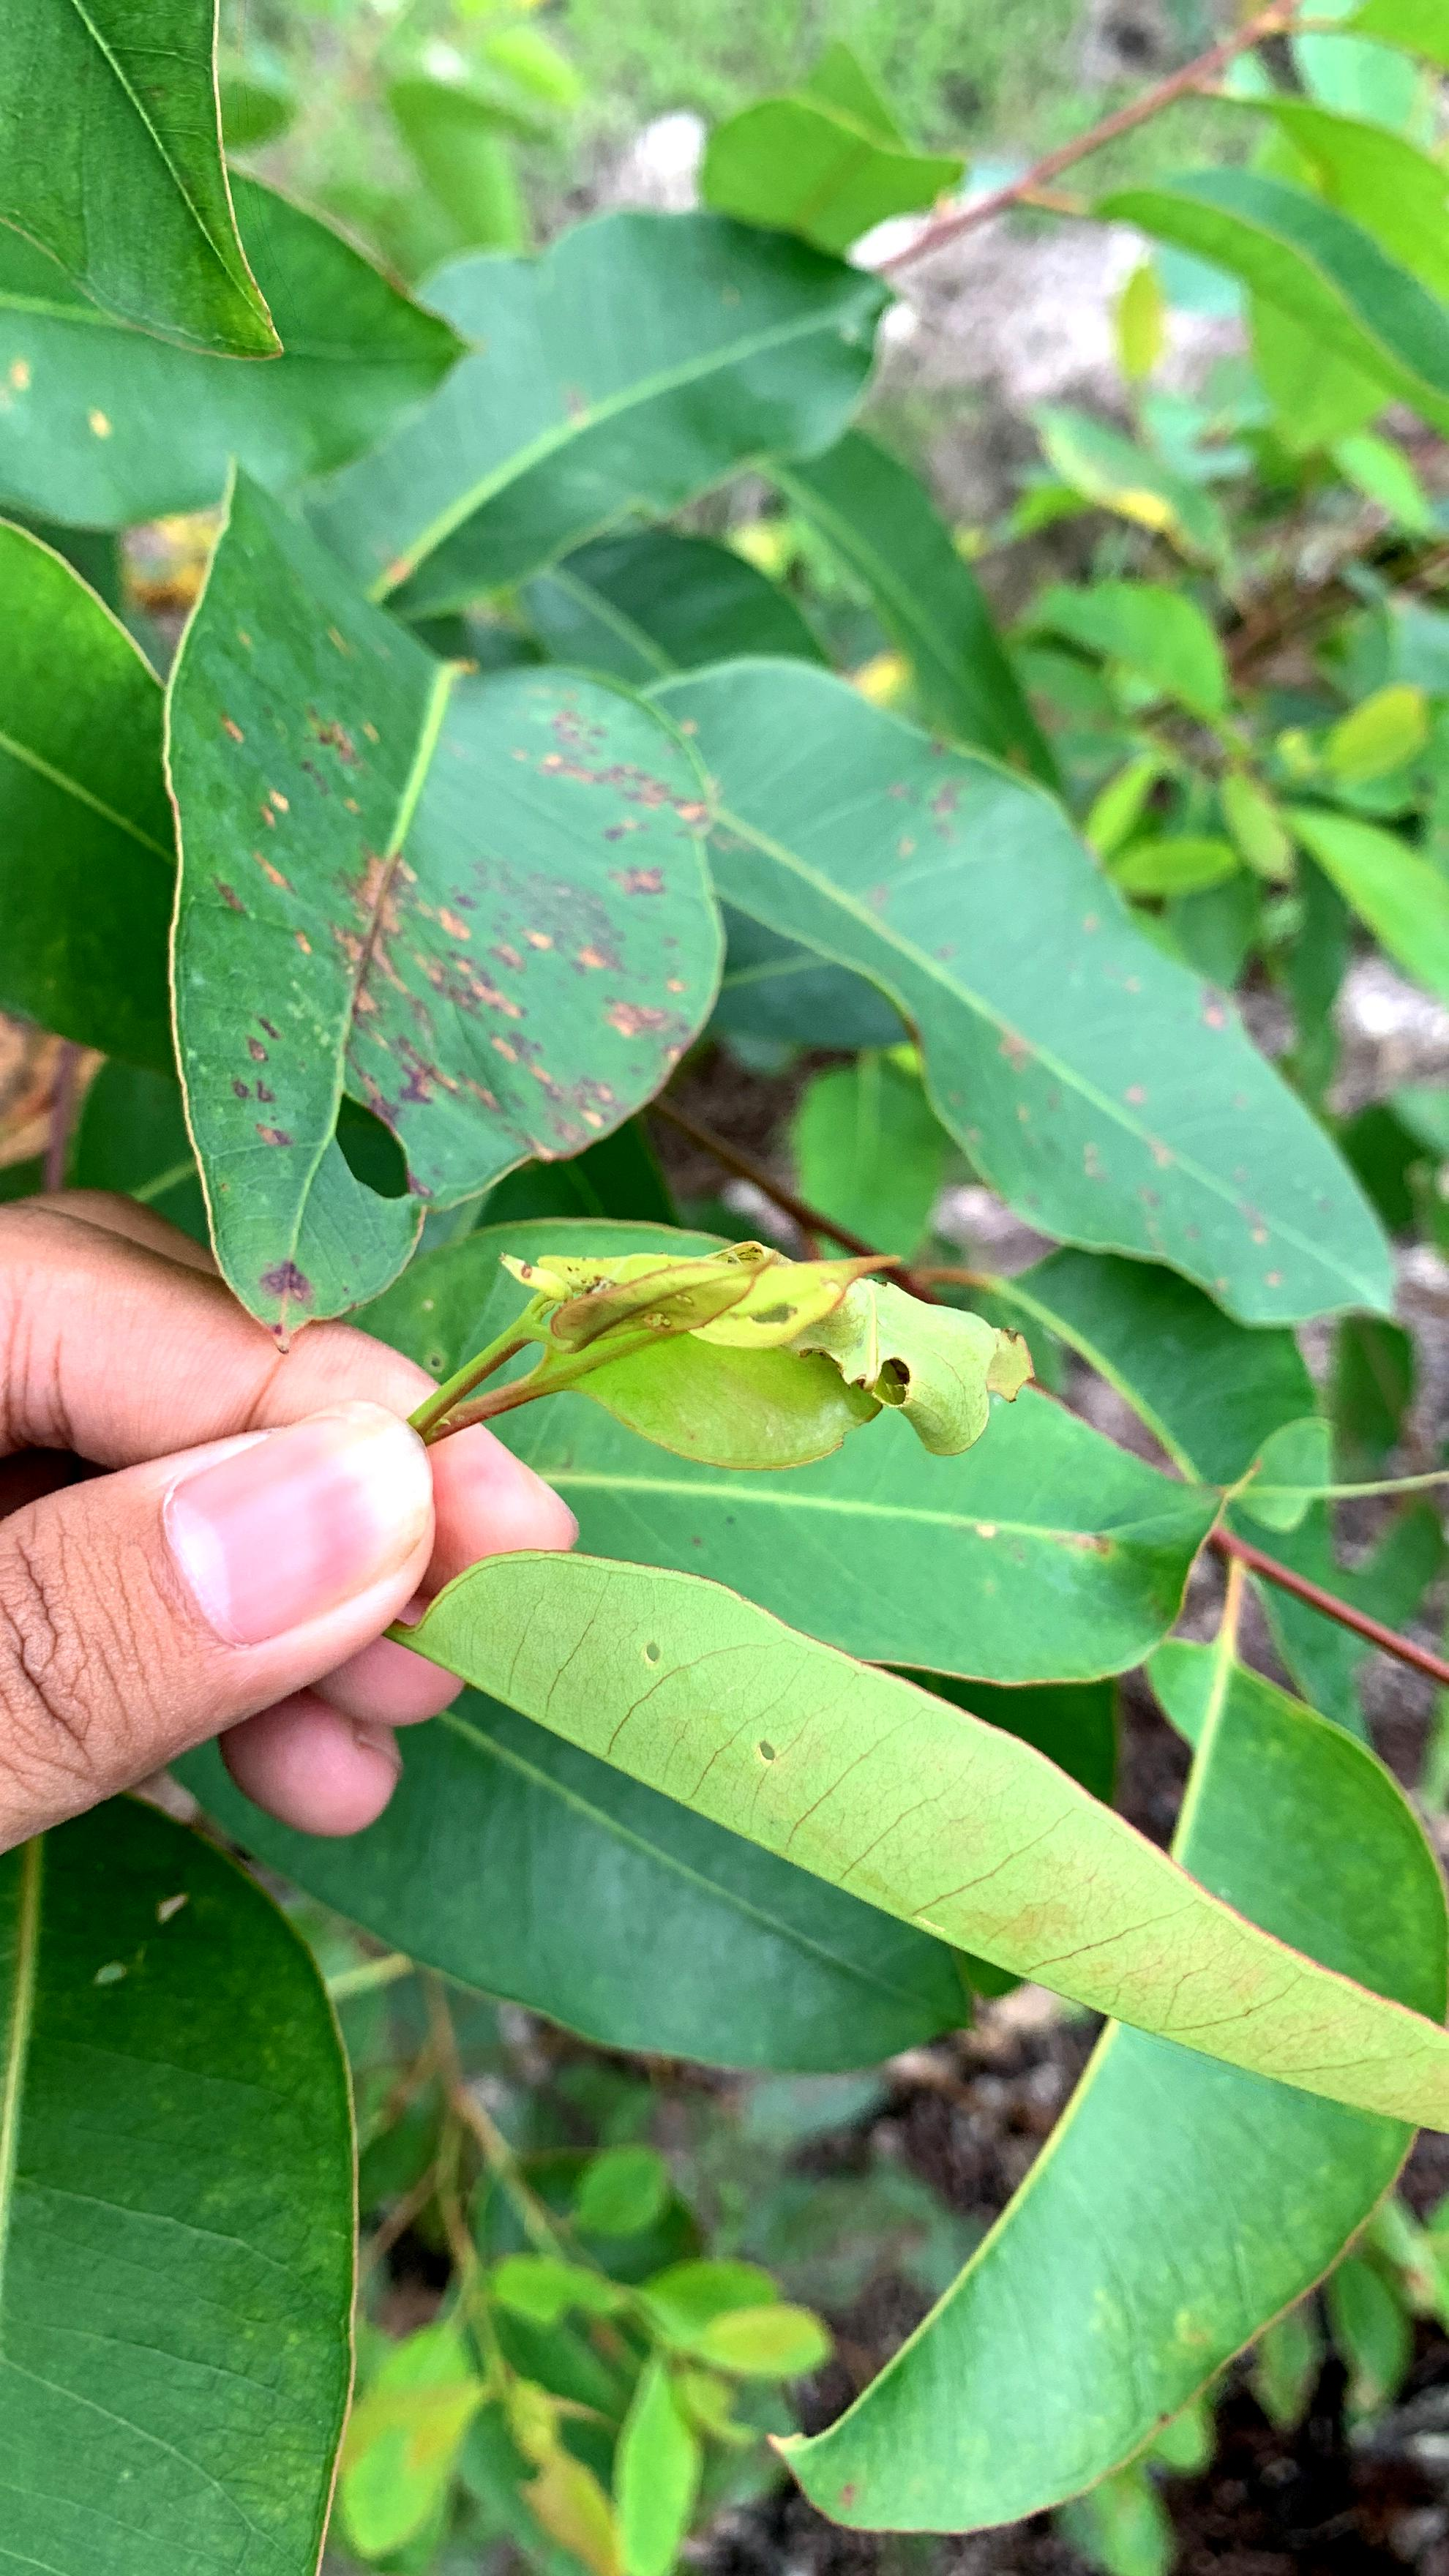Leaf Roller - Leaf: (517, 1237, 1040, 1491)
